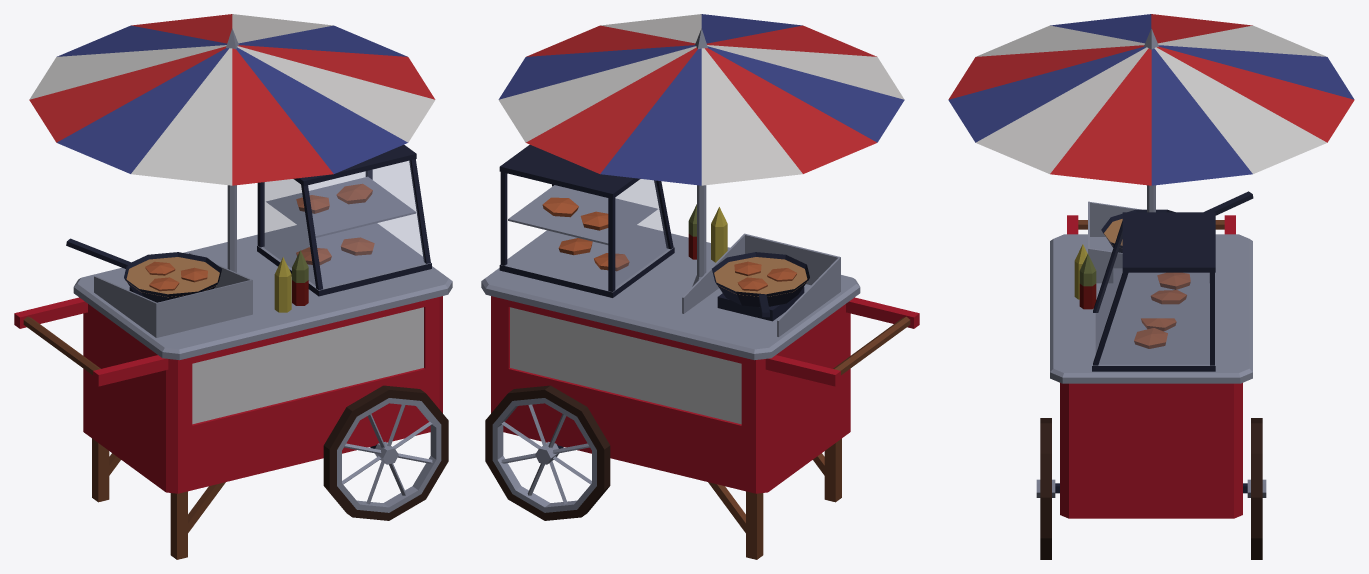
Rendered from sopaipilla-cart-712632.glb.
The picture shows the model from 3 angles, left to right: view 1: azimuth 30°, elevation 25°; view 2: azimuth 150°, elevation 25°; view 3: azimuth 270°, elevation 25°; orthographic projection.
Parts seen in each view (by area): view 1: cart, display-glass, wheel, pan-mesh; view 2: cart, wheel, pan-mesh, display-glass; view 3: cart, display-glass, wheel (×2), pan-mesh.
Boxes of the visible parts, bbox=[...] form: cart: bbox=[14, 14, 452, 559]; display-glass: bbox=[263, 161, 424, 287]; wheel: bbox=[323, 385, 448, 520]; pan-mesh: bbox=[66, 238, 221, 302]; cart: bbox=[481, 14, 919, 559]; wheel: bbox=[485, 385, 610, 520]; pan-mesh: bbox=[712, 252, 809, 317]; display-glass: bbox=[615, 179, 668, 287]; cart: bbox=[948, 14, 1354, 518]; display-glass: bbox=[1096, 232, 1209, 364]; wheel (×2): bbox=[1036, 418, 1266, 559]; pan-mesh: bbox=[1101, 191, 1253, 252].
Bounding box in the file's own units: 1.6 × 2.07 × 1.6.
